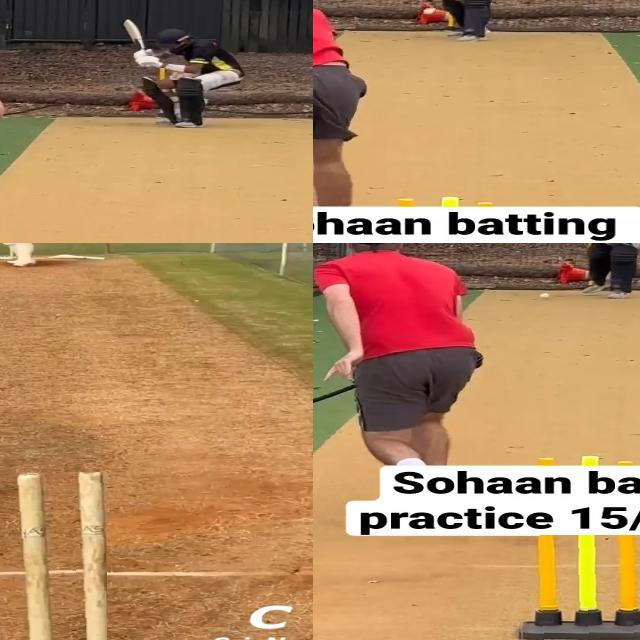Cricket ball: (0, 472, 106, 640), (423, 7, 437, 15), (423, 8, 436, 15), (539, 293, 551, 299)
Stumps: (517, 535, 640, 640)
